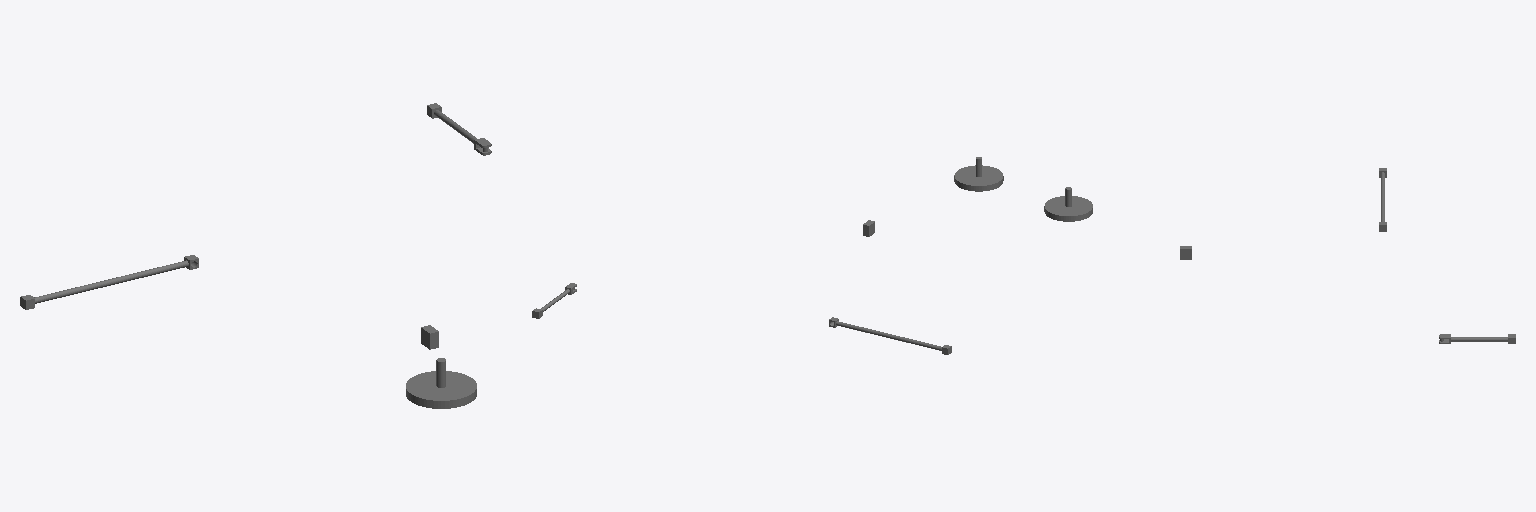
URDF robot description (bot):
<?xml version="1.0" encoding="utf-8"?>

<robot name="bot">

	<material name="gray">
		<color rgba="0.5 0.5 0.5 1"/>
	</material>

	<!--<link name="origin">
		<inertial>
			j  <origin xyz="0 0 0" rpy="0 0 0"/>
			<mass value="0.0001"/>
			<inertia ixx="0" ixy="0" ixz="0" iyy="0" iyz="0" izz="0"/>
		</inertial>
		<visual>
			<origin xyz="0 0 0" rpy="0 0 0"/>
			<geometry>
				<box size="0.00005 0.00005 0.00005"/>
			</geometry>
		</visual>
		<collision>
			<origin xyz="0 0 0" rpy="0 0 0"/>
			<geometry>
				<box size="0.00005 0.00005 0.00005"/>
			</geometry>
		</collision>
	</link>-->

	<link name="base_link">
		<inertial>
			<origin xyz="0 0 0.12" rpy="0 0 0"/>
			<mass value="10"/>
			<inertia ixx="0" ixy="0" ixz="0" iyy="0" iyz="0" izz="0"/>
		</inertial>
		<visual>
			<origin xyz="0 0 0.12" rpy="0 0 0"/>
			<geometry>
				<mesh filename="package://trial/meshes/base_link.STL" />
			</geometry>
			<material name = "gray"/>
		</visual>
		<collision>
			<origin xyz="0 0 0.12" rpy="0 0 0"/>
			<geometry>
				<mesh filename="package://trial/meshes/base_link.STL" />
			</geometry>
		</collision>
	</link>

	<link name="FRW">
		<inertial>
			<origin xyz="0 0 0" rpy="0.785 0 0"/>
			<mass value="3"/>
			<inertia ixx="0" ixy="0" ixz="0" iyy="0" iyz="0" izz="0"/>
		</inertial>
		<visual>
			<origin xyz="0 0 0" rpy="0 0 0"/>
			<geometry>
				<mesh filename="package://trial/meshes/Wheel.STL" />
			</geometry>
			<material name = "gray"/>
		</visual>
		<collision>
			<origin xyz="0 0 0" rpy="0 0 0"/>
			<geometry>
				<mesh filename="package://trial/meshes/Wheel.STL" />
			</geometry>
		</collision>
	</link>

	<joint name="FRWJ" type="continuous">
		<parent link = "base_link"/>
		<child link = "FRW"/>
		<origin xyz="0.125 -0.235 0.1" rpy="0 0 0"/>
		<axis xyz="0 0 1"/>
	</joint>

	<link name="FC">
		<inertial>
			<origin xyz="0.225 0.16 0" rpy="0 0 0"/>
			<mass value="0.25"/>
			<inertia ixx="0" ixy="0" ixz="0" iyy="0" iyz="0" izz="0"/>
		</inertial>
		<visual>
			<origin xyz="0.225 0.16 0" rpy="0 0 0"/>
			<geometry>
				<mesh filename="package://trial/meshes/Camera.STL" />
			</geometry>
			<material name = "gray"/>
		</visual>
		<collision>
			<origin xyz="0.225 0.16 0" rpy="0 0 0"/>
			<geometry>
				<mesh filename="package://trial/meshes/Camera.STL" />
			</geometry>
		</collision>
	</link>

	<joint name="FCJ" type="fixed">
		<parent link = "base_link"/>
		<child link = "FC"/>
		<origin xyz="0.225 0.16 0" rpy="0 0 0"/>
	</joint>

	<link name="EP1">
		<inertial>
			<origin xyz="-0.120 0.425 0" rpy="0 0 0"/>
			<mass value="0.5"/>
			<inertia ixx="0" ixy="0" ixz="0" iyy="0" iyz="0" izz="0"/>
		</inertial>
		<visual>
			<origin xyz="-0.120 0.425 0" rpy="0 0 0"/>
			<geometry>
				<mesh filename="package://trial/meshes/EP1.STL" />
			</geometry>
			<material name = "gray"/>
		</visual>
		<collision>
			<origin xyz="-0.120 0.425 0" rpy="0 0 0"/>
			<geometry>
				<mesh filename="package://trial/meshes/EP1.STL" />
			</geometry>
		</collision>
	</link>

	<joint name="EP1J" type="prismatic">
		<parent link = "base_link"/>
		<child link = "EP1"/>
		<origin xyz="-0.120 0.425 0" rpy="0 0 0"/>
		<axis xyz="1 0 0"/>
		<limit upper="0" lower="-0.35" effort="10" velocity="0.1"/>
	</joint>

	<link name="EP2">
		<inertial>
			<origin xyz="0.425 0.470 0" rpy="0 0 0"/>
			<mass value="0.5"/>
			<inertia ixx="0" ixy="0" ixz="0" iyy="0" iyz="0" izz="0"/>
		</inertial>
		<visual>
			<origin xyz="0.425 0.470 0" rpy="0 0 0"/>
			<geometry>
				<mesh filename="package://trial/meshes/EP2.STL" />
			</geometry>
			<material name = "gray"/>
		</visual>
		<collision>
			<origin xyz="0.425 0.470 0" rpy="0 0 0"/>
			<geometry>
				<mesh filename="package://trial/meshes/EP2.STL" />
			</geometry>
		</collision>
	</link>

	<joint name="EP2J" type="prismatic">
		<parent link = "EP1"/>
		<child link = "EP2"/>
		<origin xyz="0.545 0.45 0" rpy="0 0 0"/>
		<axis xyz="0 1 0"/>
		<limit upper="0" lower="-0.23" effort="10" velocity="0.1"/>
	</joint>

	<link name="CH">
		<inertial>
			<origin xyz="0.425 0.1425 0" rpy="0 0 0"/>
			<mass value="0.5"/>
			<inertia ixx="0" ixy="0" ixz="0" iyy="0" iyz="0" izz="0"/>
		</inertial>
		<visual>
			<origin xyz="0.425 0.1425 0" rpy="0 0 0"/>
			<geometry>
				<mesh filename="package://trial/meshes/Holder.STL" />
			</geometry>
			<material name = "gray"/>
		</visual>
		<collision>
			<origin xyz="0.425 0.1425 0" rpy="0 0 0"/>
			<geometry>
				<mesh filename="package://trial/meshes/Holder.STL" />
			</geometry>
		</collision>
	</link>

	<joint name="CHJ" type="revolute">
		<parent link = "EP2"/>
		<child link = "CH"/>
		<origin xyz="0 -0.3025 0" rpy="0 0 0"/>
		<axis xyz="0 0 1"/>
		<limit upper="0" lower="-0.35" effort="10" velocity="0.125"/>
	</joint>

	<link name="F1">
		<inertial>
			<origin xyz="0.4944 0.0725 0" rpy="0 0 0"/>
			<mass value="0.5"/>
			<inertia ixx="0" ixy="0" ixz="0" iyy="0" iyz="0" izz="0"/>
		</inertial>
		<visual>
			<origin xyz="0.4944 0.0725 0" rpy="0 0 0"/>
			<geometry>
				<mesh filename="package://trial/meshes/Finger.STL" />
			</geometry>
			<material name = "gray"/>
		</visual>
		<collision>
			<origin xyz="0.4944 0.0725 0" rpy="0 0 0"/>
			<geometry>
				<mesh filename="package://trial/meshes/Finger.STL" />
			</geometry>
		</collision>
	</link>

	<joint name="F1J" type="revolute">
		<parent link = "CH"/>
		<child link = "F1"/>
		<origin xyz="0.4944 0.1225 0" rpy="0 0 0"/>
		<axis xyz="0 0 1"/>
		<limit upper="0" lower="-0.35" effort="10" velocity="0.125"/>
	</joint>
</robot>

--- What the picture shows (computed from the rendered views, not written in the file) ---
The picture shows the robot from 3 angles, left to right: view 1: azimuth 30°, elevation 25°; view 2: azimuth 150°, elevation 25°; view 3: azimuth 270°, elevation 25°; orthographic projection.
Model bot with 7 links and 6 joints (2 revolute, 1 continuous, 2 prismatic, 1 fixed), rooted at base_link, posed all joints at 0.
Links seen in each view (by area): view 1: FRW, EP1, EP2; view 2: FRW, EP1; view 3: FRW.
Link boxes in pixels (box(x1,y1,x2,y2)): FRW: box(406, 358, 476, 408); EP1: box(20, 255, 198, 309); EP2: box(427, 103, 491, 155); FRW: box(954, 157, 1003, 191); EP1: box(829, 317, 951, 354); FRW: box(1044, 187, 1092, 221).
Bounding box of the posed robot: 1.65 × 1.94 × 0.22 m (x, y, z).
4 mesh visuals loaded from 7 distinct referenced files (4 binary STL); not drawn: 3 (reference not matched to a file when rendering).
